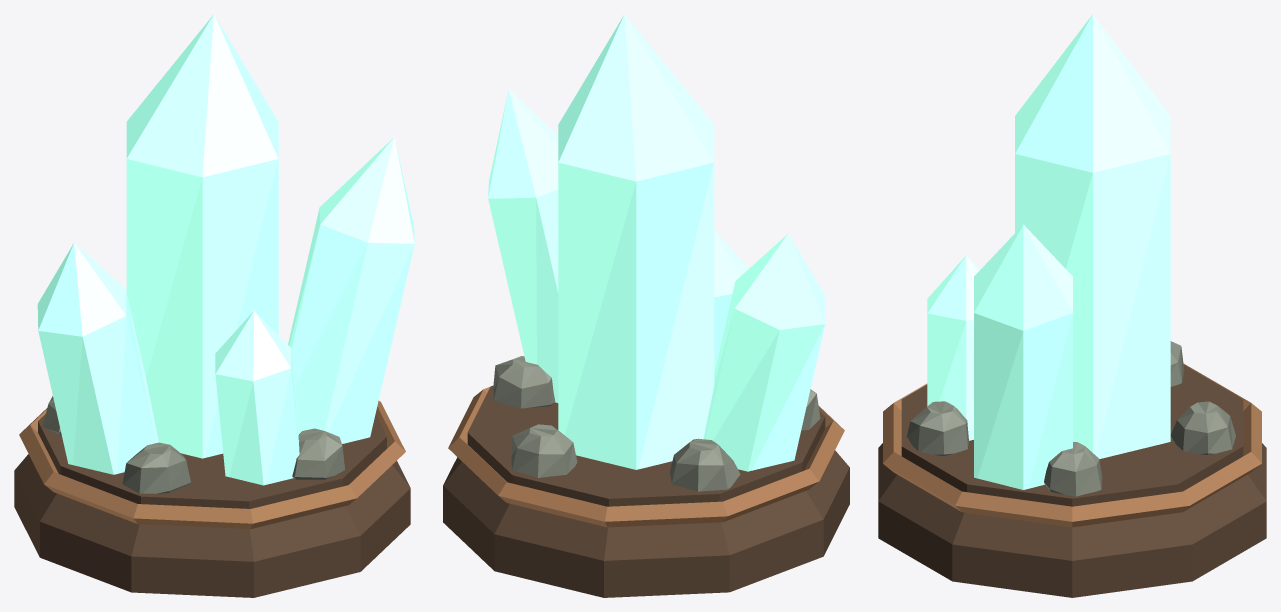
Rendered from decor_fluorite_lamp.glb.
3 renders of one model, left to right at view 1: azimuth 30°, elevation 25°; view 2: azimuth 150°, elevation 25°; view 3: azimuth 270°, elevation 25°, orthographic. The views are drawn at different scales.
Visible parts, largest first — view 1: light, geometry; view 2: light, geometry; view 3: light, geometry.
Boxes of the visible parts, left/top/right/bottom form: light: left=37, top=14, right=414, bottom=485; geometry: left=14, top=396, right=410, bottom=597; light: left=488, top=14, right=825, bottom=471; geometry: left=443, top=356, right=849, bottom=597; light: left=927, top=14, right=1170, bottom=489; geometry: left=878, top=341, right=1266, bottom=597.
Bounding box in the file's own units: 0.5094 × 0.68 × 0.4755.
